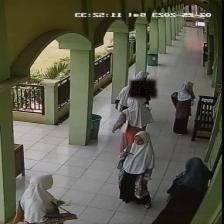Cadar_Niqab: (129, 71, 157, 97)
